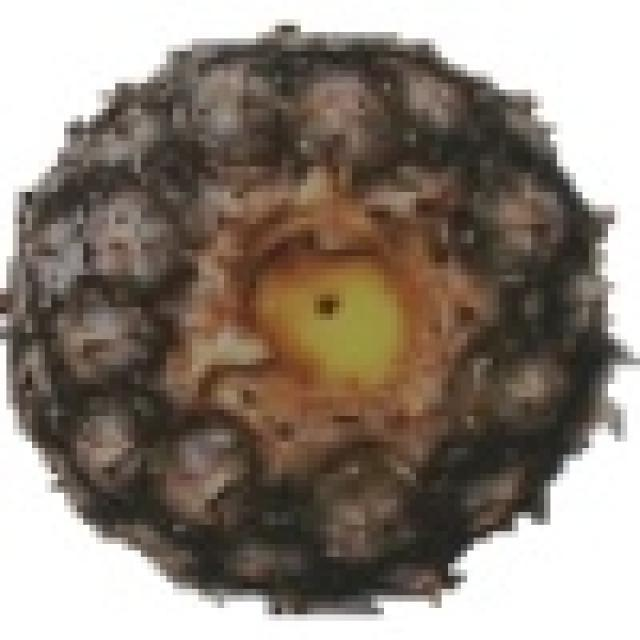pineapple: (13, 19, 602, 595)
